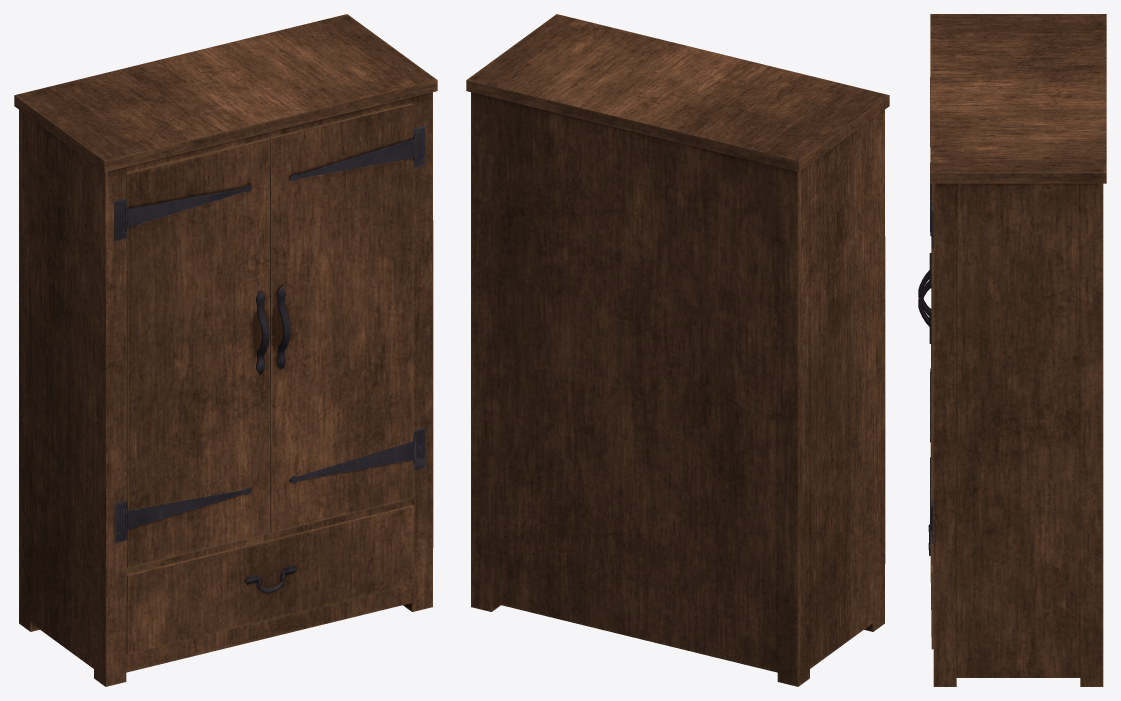
The model's file is wardrobe.glb.
3 views of the same model, side by side, from view 1: azimuth 30°, elevation 25°; view 2: azimuth 150°, elevation 25°; view 3: azimuth 270°, elevation 25° (orthographic). The views are drawn at different scales.
Parts seen in each view (by area): view 1: Wardrobe; view 2: Wardrobe; view 3: Wardrobe.
Part boxes in pixels (bbox=[...]): Wardrobe: bbox=[14, 14, 437, 686]; Wardrobe: bbox=[466, 14, 889, 686]; Wardrobe: bbox=[918, 14, 1106, 686].
Size of the model in its own units: 1.33 by 2.01 by 0.6659.
Materials: 1 (1 with a texture image).
